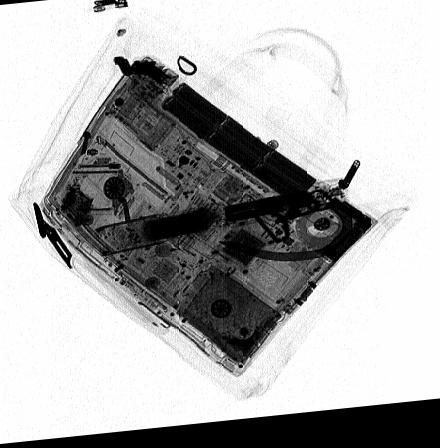Baton: (95, 183, 350, 258)
